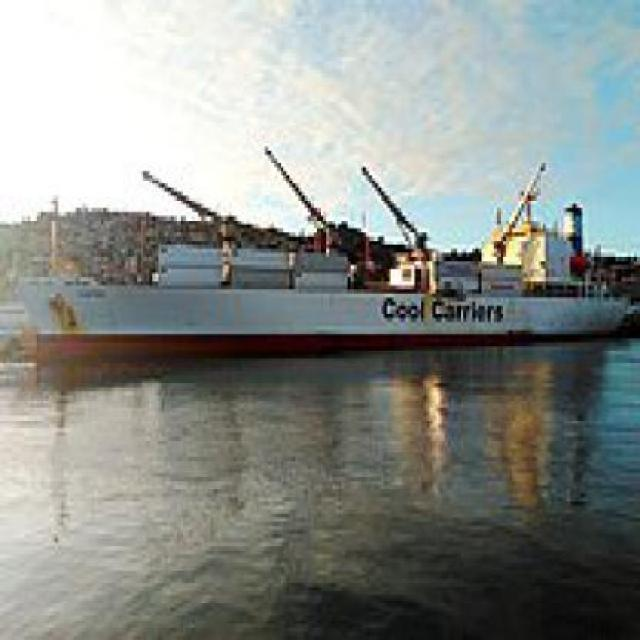container: (10, 132, 638, 409)
